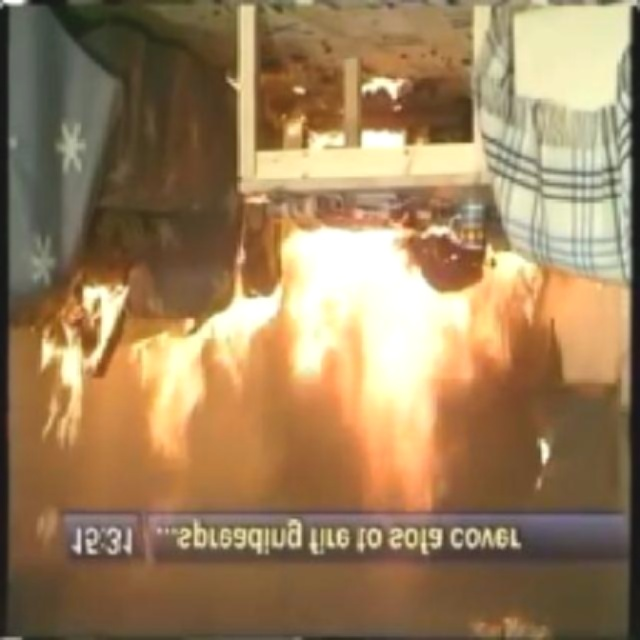fire: (142, 217, 508, 479)
